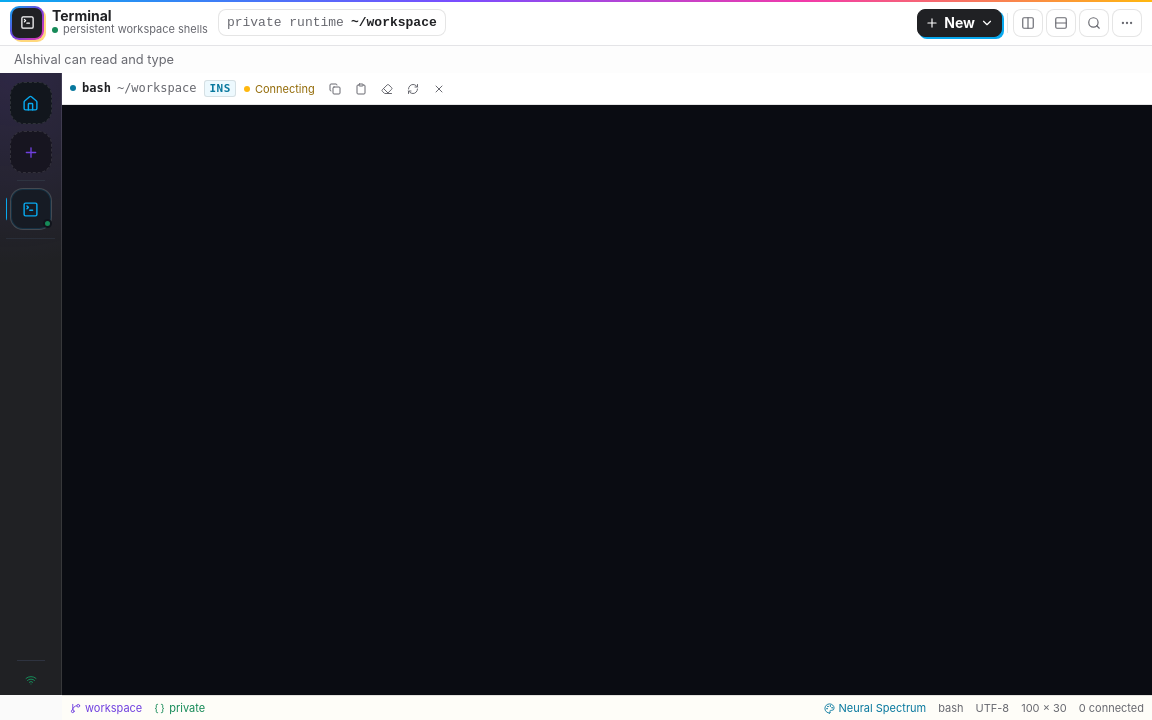
Test: Terminal app › ignores an unavailable ticket while intentional termination is still pending
Click the button named "Close workspace pane" at (439, 88), box [427,76,452,101]
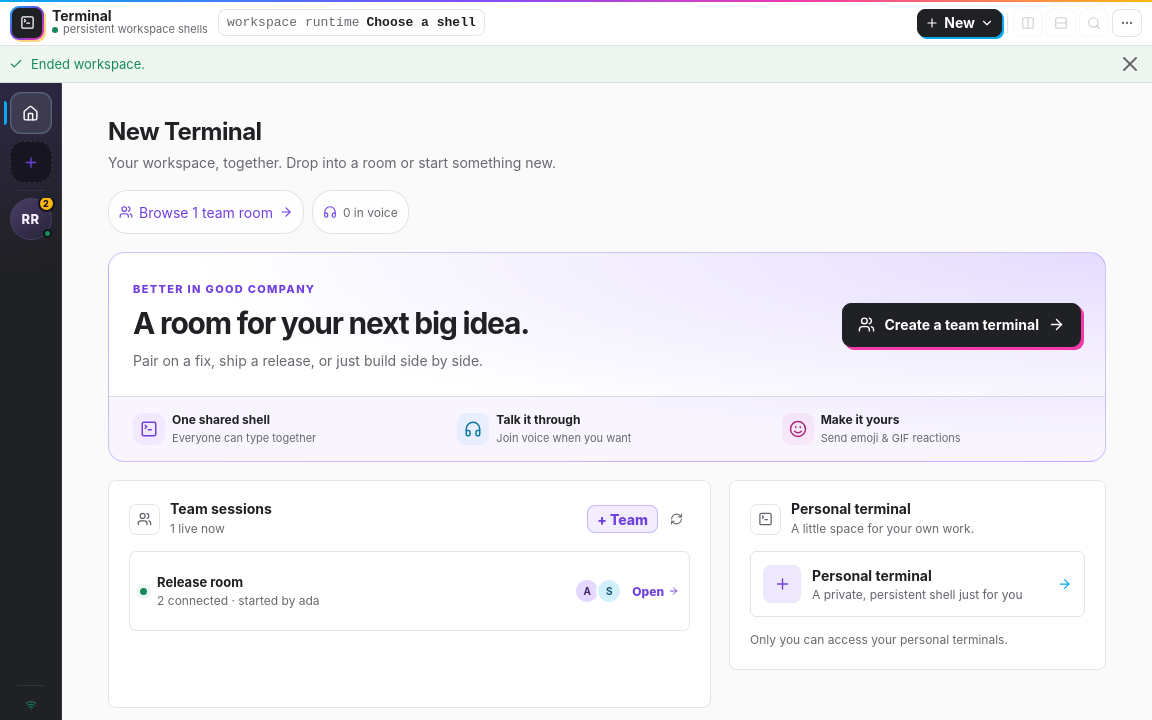
Expected: the heading "New Terminal" is shown, [108,117,261,146]
